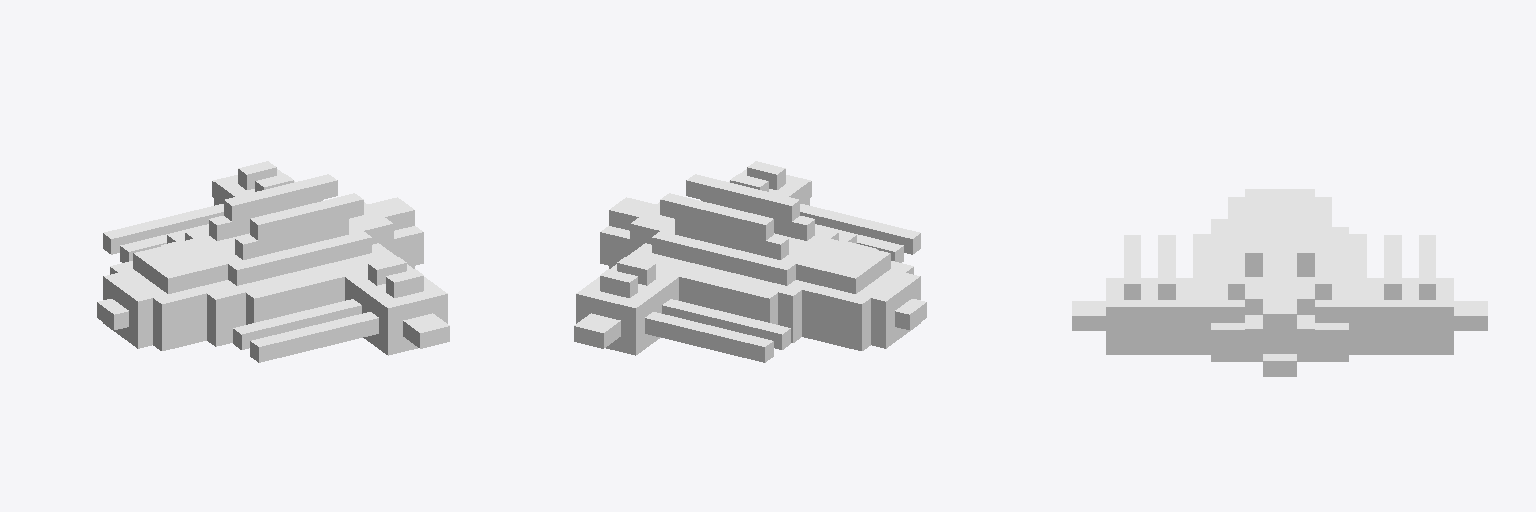
File: Enemy2.4.obj
3 views of the same model, side by side, from view 1: azimuth 30°, elevation 25°; view 2: azimuth 150°, elevation 25°; view 3: azimuth 270°, elevation 25° (orthographic).
Size of the model in its own units: 20 by 6 by 24.